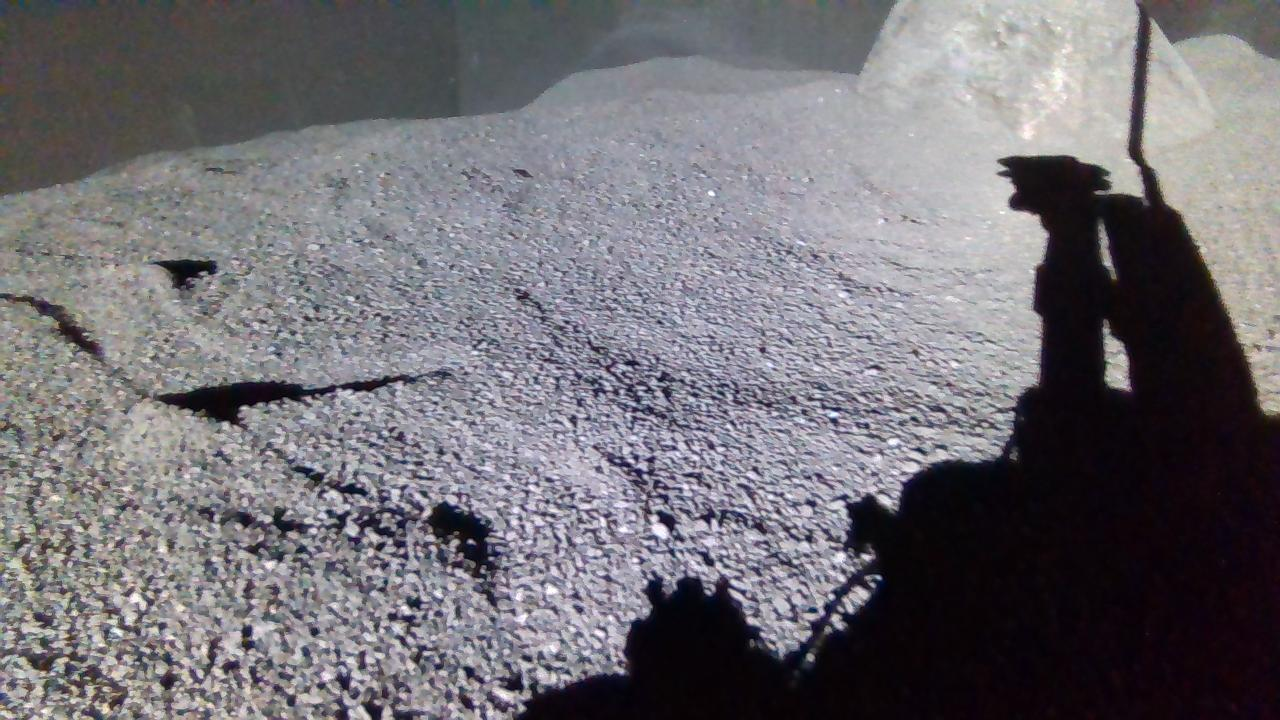rock: (852, 0, 1214, 138)
